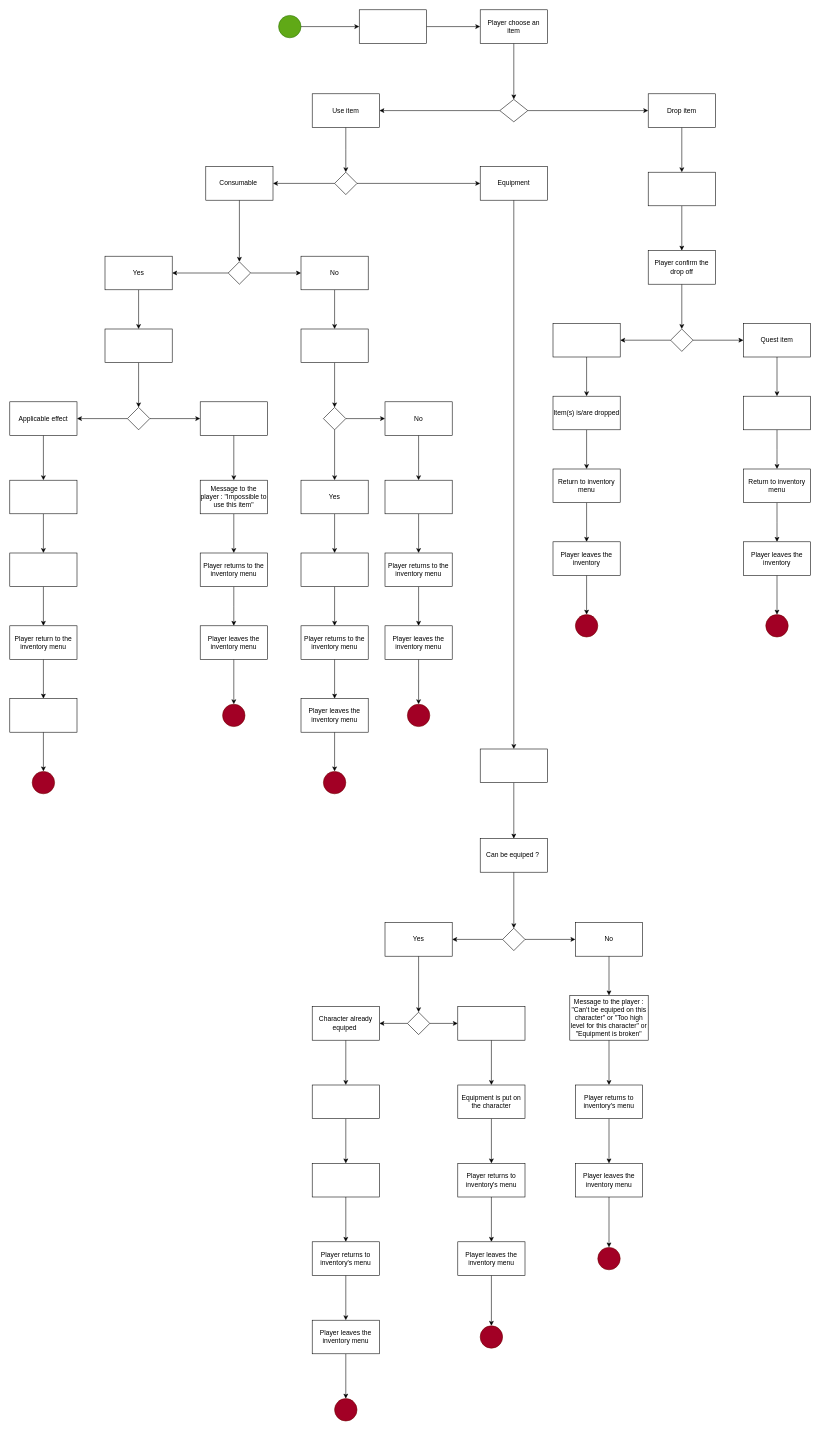
Image size: 820x1431. Some labels were removed from this diagram. Each missing label, with the box of its shape:
Can be used now ?: (300, 328, 368, 363)
Character not yet equiped: (457, 1006, 525, 1040)
Effect applied: (9, 480, 77, 514)
Item -1 in the inventory: (9, 552, 77, 587)
Item is used and its effects are applied: (300, 552, 368, 587)
Message to the player : "Can't be used now !": (384, 480, 452, 514)
Message to the player : "Impossible to drop this item": (743, 396, 811, 430)
New equipement is put on the character: (312, 1163, 379, 1197)
Not applicable effect: (200, 401, 267, 435)
Not quest item: (552, 323, 620, 357)
Old equipment is placed in inventory: (312, 1084, 379, 1119)
Open inventory menu: (359, 9, 426, 43)
Player choose on which character use this item: (104, 328, 172, 363)
Player choose the quantity he want to drop: (648, 172, 715, 206)
Player chooses a character to put the equipment: (480, 748, 547, 783)
Player leave the inventory menu: (9, 698, 77, 732)
